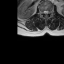CCS_normal: (45, 8, 47, 17)
LFS_normal: (49, 9, 51, 14)
LLS_normal: (47, 9, 49, 15)
RFS_normal: (41, 9, 43, 15)
RLS_normal: (43, 9, 45, 15)
